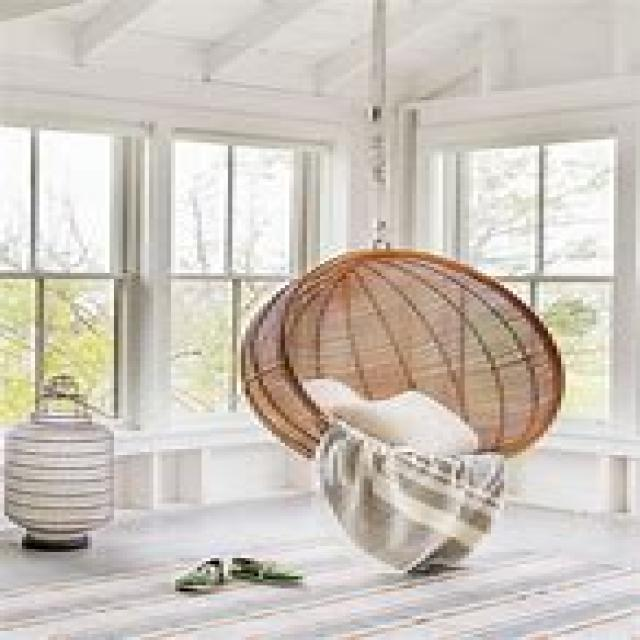chair: (237, 240, 566, 573)
